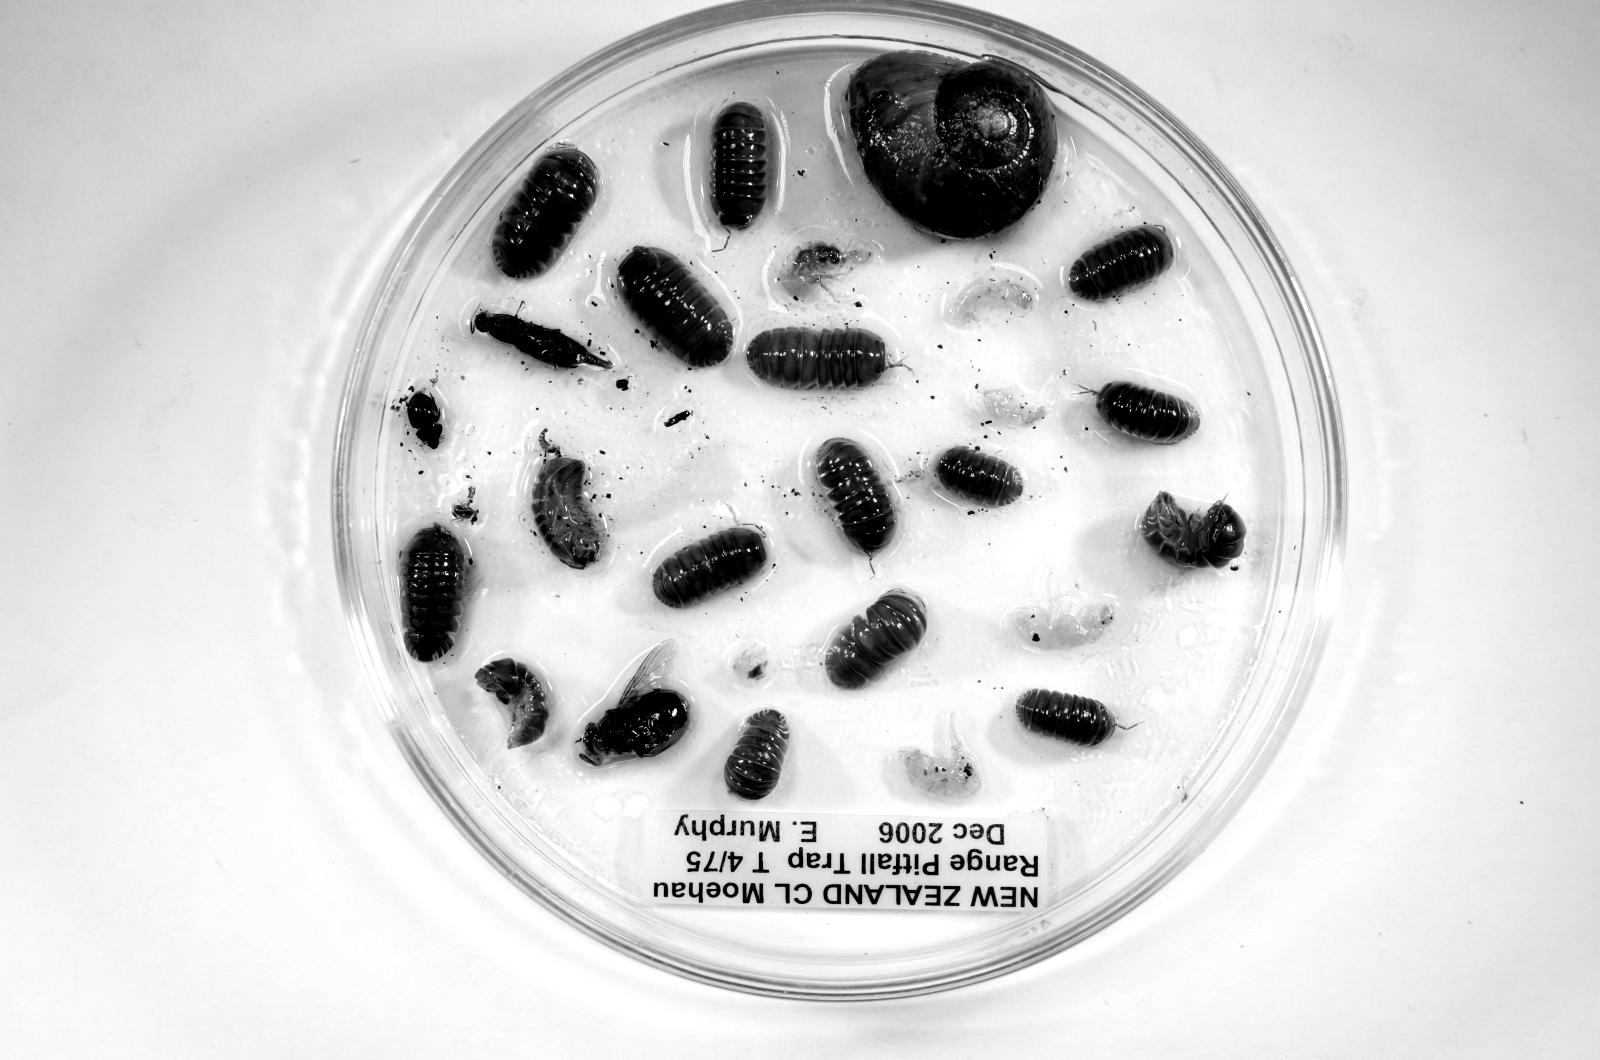amphipoda: (898, 712, 982, 800), (1006, 592, 1116, 651), (777, 240, 875, 303), (945, 270, 1036, 328), (971, 387, 1051, 427)
coleoptera: (471, 310, 613, 369), (406, 389, 443, 450)
diptera: (578, 640, 689, 765)
gastropoda: (847, 51, 1055, 239)
isopoda: (492, 144, 600, 278), (618, 246, 733, 367), (824, 589, 926, 690), (814, 439, 896, 557), (401, 525, 472, 662), (653, 525, 767, 608), (746, 327, 889, 389), (532, 457, 605, 569), (1068, 226, 1175, 302), (1140, 492, 1245, 567), (711, 103, 767, 230), (474, 658, 549, 748), (1096, 381, 1200, 444), (725, 709, 789, 800), (1016, 689, 1115, 746), (933, 446, 1024, 508)
